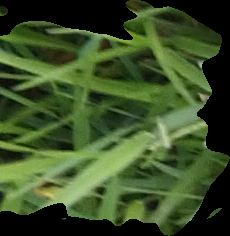grass: (1, 1, 228, 235)
